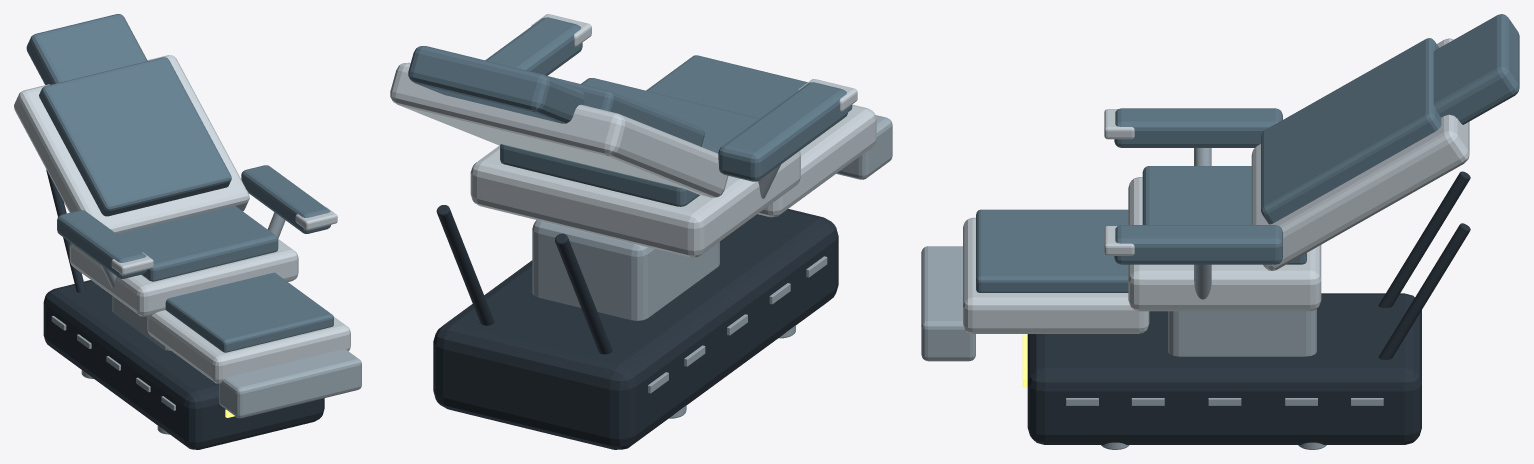
Rendered from neural_chair.glb.
3 renders of one model, left to right at view 1: azimuth 30°, elevation 25°; view 2: azimuth 150°, elevation 25°; view 3: azimuth 270°, elevation 25°, orthographic. The views are drawn at different scales.
Parts seen in each view (by area): view 1: neural_chair; view 2: neural_chair; view 3: neural_chair.
Boxes of the visible parts, x1,y1,x2,y2 form: neural_chair: (14, 14, 361, 449); neural_chair: (390, 14, 892, 449); neural_chair: (921, 14, 1519, 449).
Bounding box in the file's own units: 1.48 × 1.85 × 2.73.
